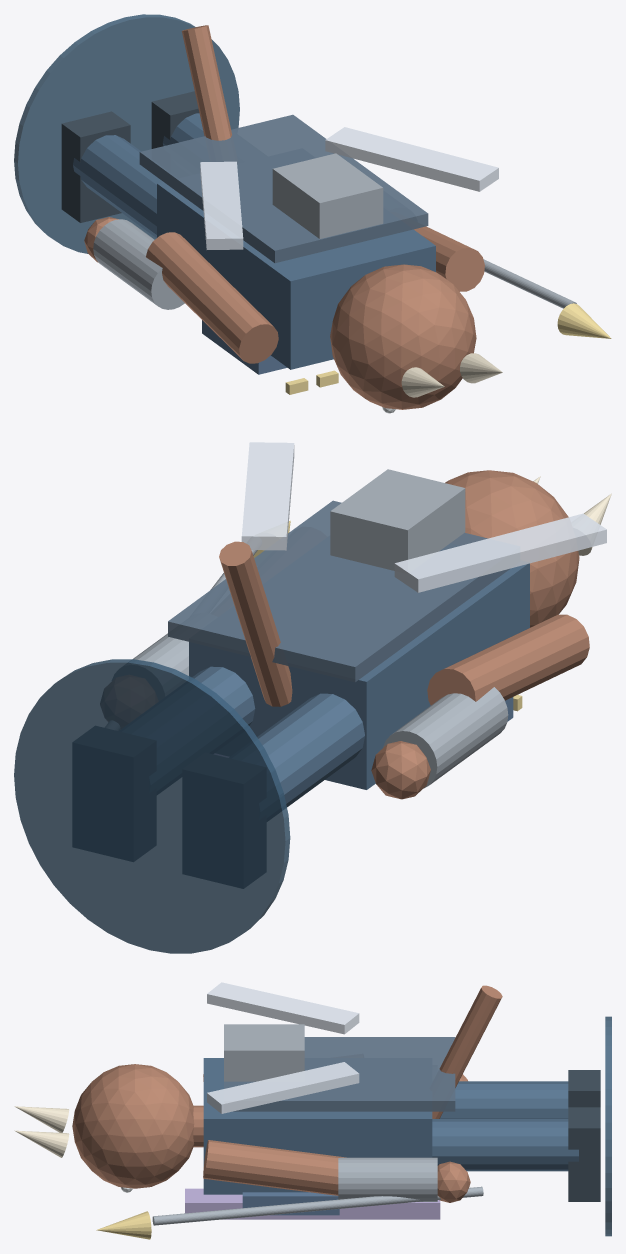
The model's file is SW_NPC_021_uren_rootwing.glb.
3 renders of one model, top to bottom at view 1: azimuth 30°, elevation 25°; view 2: azimuth 150°, elevation 25°; view 3: azimuth 270°, elevation 25°, orthographic. The views are drawn at different scales.
Parts seen in each view (by area): view 1: round_base_plate, head, torso_uniform, storm_cloak, left_upper_arm, wingpack_core, left_leg, right_wing_rig, left_forearm_gauntlet, left_boot, left_wing_rig, dragon_tail (+8 smaller); view 2: round_base_plate, storm_cloak, torso_uniform, wingpack_core, head, left_upper_arm, left_wing_rig, left_leg, left_forearm_gauntlet, dragon_tail, right_wing_rig, left_hand (+2 smaller); view 3: head, torso_uniform, storm_cloak, right_leg, right_upper_arm, wingpack_core, left_leg, right_forearm_gauntlet, right_wing_rig, left_wing_rig, rank_sash, right_boot (+10 smaller).
Boxes of the visible parts, box(x1,y1,x2,y2) form: round_base_plate: box(14, 14, 239, 253); head: box(330, 264, 476, 409); torso_uniform: box(157, 182, 435, 369); storm_cloak: box(139, 114, 428, 263); left_upper_arm: box(146, 232, 278, 363); wingpack_core: box(272, 153, 383, 238); left_leg: box(73, 135, 163, 238); right_wing_rig: box(325, 127, 498, 191); left_forearm_gauntlet: box(93, 219, 184, 309); left_boot: box(61, 111, 130, 222); left_wing_rig: box(200, 161, 243, 249); dragon_tail: box(181, 25, 232, 140); round_base_plate: box(14, 659, 290, 953); storm_cloak: box(168, 500, 510, 682); torso_uniform: box(189, 563, 529, 789); wingpack_core: box(330, 469, 465, 570); head: box(445, 470, 579, 627); left_upper_arm: box(427, 614, 589, 705); left_wing_rig: box(394, 513, 606, 592); left_leg: box(257, 693, 364, 807); left_forearm_gauntlet: box(383, 687, 508, 788); dragon_tail: box(219, 541, 292, 706); right_wing_rig: box(241, 442, 294, 550); left_hand: box(371, 741, 430, 799); head: box(72, 1064, 194, 1188); torso_uniform: box(203, 1058, 432, 1194); storm_cloak: box(224, 1037, 455, 1111); right_leg: box(432, 1119, 578, 1171); right_upper_arm: box(203, 1140, 346, 1195); wingpack_core: box(224, 1024, 304, 1081); left_leg: box(440, 1081, 568, 1118); right_forearm_gauntlet: box(338, 1157, 437, 1201); right_wing_rig: box(207, 1062, 359, 1113); left_wing_rig: box(207, 982, 359, 1034); rank_sash: box(185, 1188, 440, 1219); right_boot: box(568, 1107, 600, 1201).
Size of the model in its own units: 1.33 by 1.06 by 2.4.
